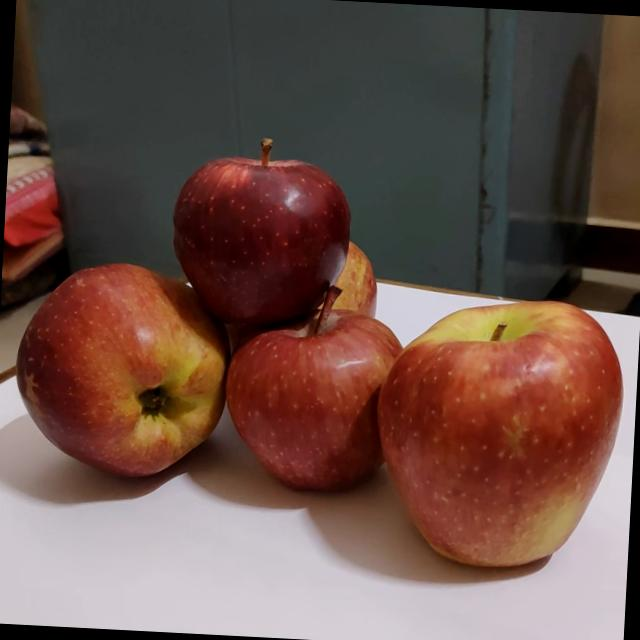apple: (372, 288, 634, 582), (11, 253, 237, 485), (224, 276, 412, 502), (168, 130, 362, 332), (310, 234, 384, 333)
